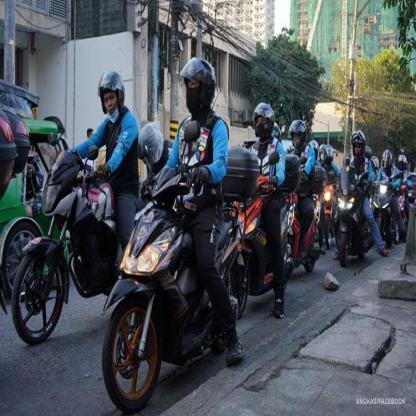helmet: (179, 56, 217, 110), (96, 69, 125, 116), (252, 102, 276, 138), (287, 119, 308, 148), (350, 129, 366, 163), (382, 149, 393, 170), (397, 154, 407, 174)
